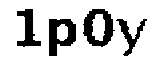0: (83, 7, 116, 50)
1: (16, 6, 42, 50)
p: (48, 16, 80, 60)
y: (117, 15, 148, 58)
